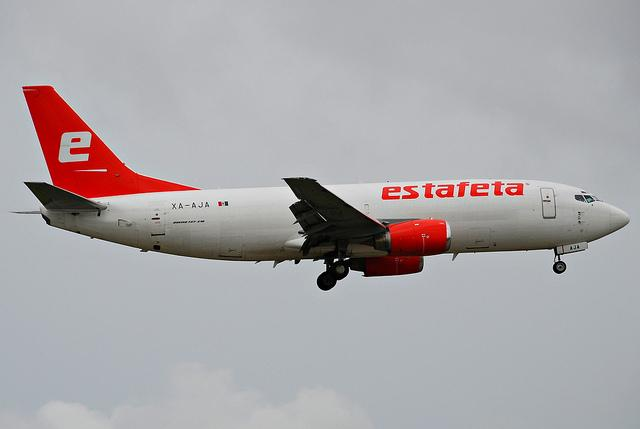airplane: (8, 84, 632, 292)
